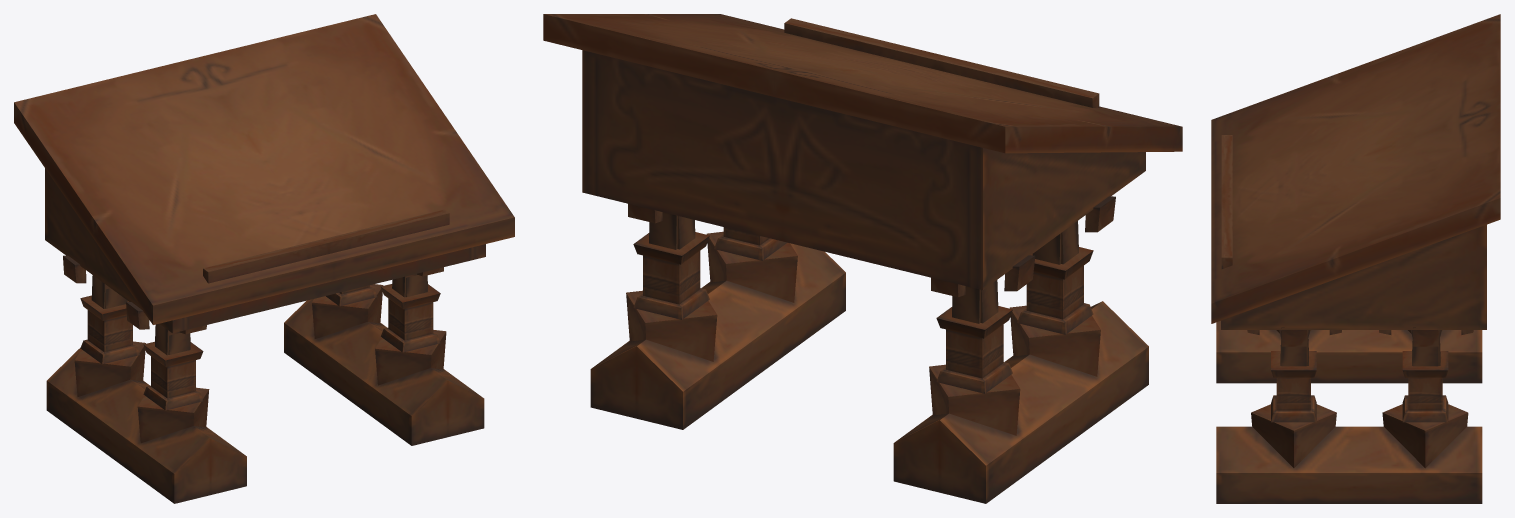
Rendered from e_asset_writingdesk.fbx.
3 renders of one model, left to right at view 1: azimuth 30°, elevation 25°; view 2: azimuth 150°, elevation 25°; view 3: azimuth 270°, elevation 25°, orthographic. The views are drawn at different scales.
Visible parts, largest first — view 1: polySurface845; view 2: polySurface845; view 3: polySurface845.
Part boxes in pixels (<box>): polySurface845: <box>14,14,514,503</box>; polySurface845: <box>543,14,1182,503</box>; polySurface845: <box>1211,14,1500,503</box>.
Size of the model in its own units: 0.7816 by 0.6351 by 0.5198.
